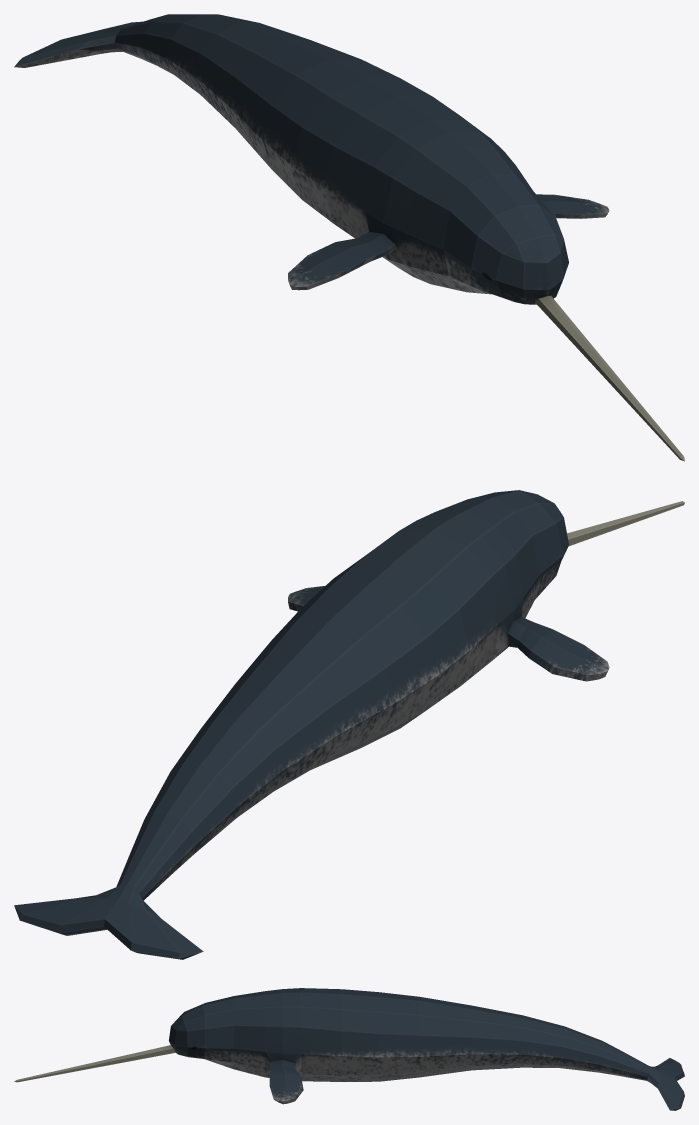
Rendered from Narwhal.gltf.
3 views of the same model, one above another, from view 1: azimuth 30°, elevation 25°; view 2: azimuth 150°, elevation 25°; view 3: azimuth 270°, elevation 25° (orthographic). The views are drawn at different scales.
Parts seen in each view (by area): view 1: node-0; view 2: node-0; view 3: node-0.
Boxes of the visible parts, <box> form: node-0: <box>14,14,684,461</box>; node-0: <box>14,490,684,959</box>; node-0: <box>14,988,684,1110</box>.
Size of the model in its own units: 5.05 by 2.62 by 16.22.
1 material, 1 textured.
